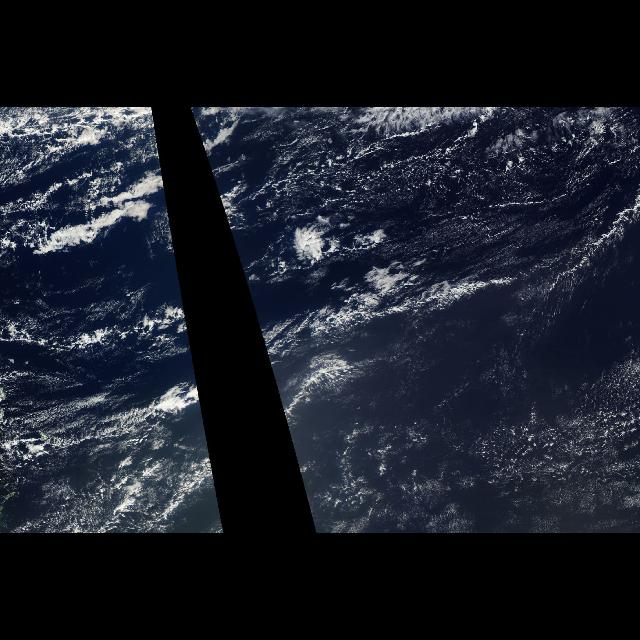Gravel: (264, 131, 632, 527)
Sugar: (334, 353, 640, 532), (12, 311, 210, 534), (323, 155, 639, 293)
